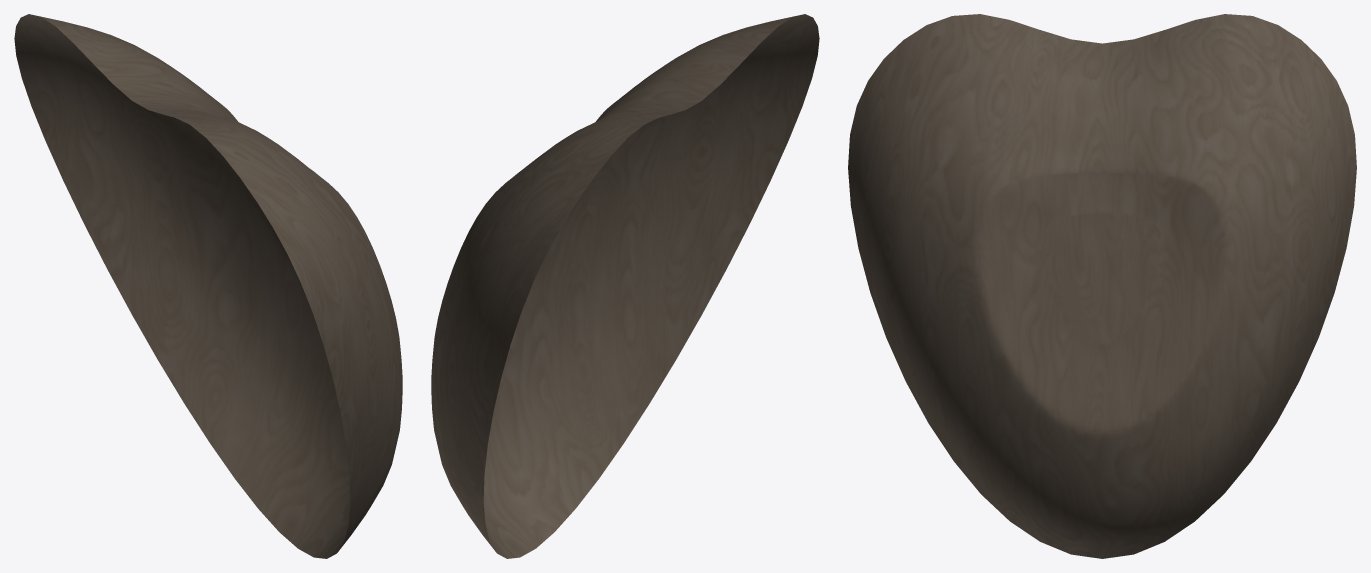
Rendered from oeuil alien haut.fbx.
3 renders of one model, left to right at view 1: azimuth 30°, elevation 25°; view 2: azimuth 150°, elevation 25°; view 3: azimuth 270°, elevation 25°, orthographic. The views are drawn at different scales.
Visible parts, largest first — view 1: oeuil alien haut; view 2: oeuil alien haut; view 3: oeuil alien haut.
Part boxes in pixels (left/top/right/bottom): oeuil alien haut: left=14, top=14, right=402, bottom=558; oeuil alien haut: left=431, top=14, right=819, bottom=558; oeuil alien haut: left=848, top=14, right=1356, bottom=558.
Bounding box in the file's own units: 8.2 × 16.07 × 15.86.
1 material, 1 textured.
